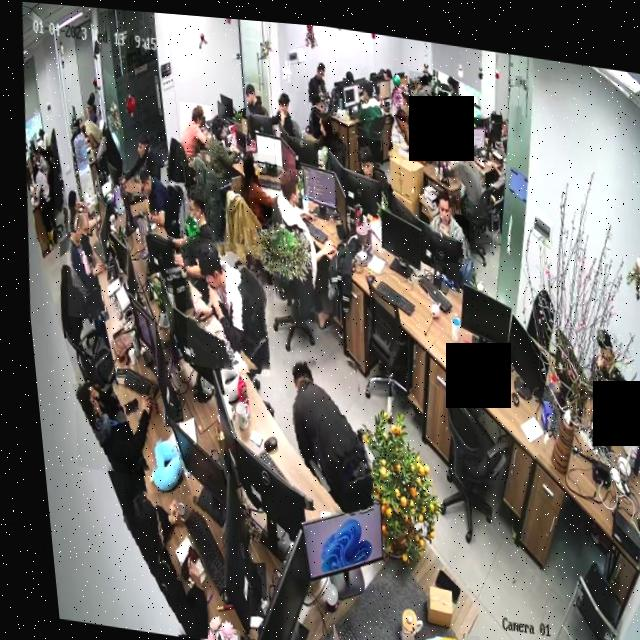person: (269, 347, 374, 513), (102, 484, 204, 637), (256, 160, 344, 328), (170, 232, 272, 373), (61, 375, 160, 477), (565, 312, 632, 426), (155, 178, 222, 282), (53, 204, 109, 321), (438, 124, 488, 210), (420, 179, 470, 258), (231, 145, 279, 227), (129, 161, 179, 237), (199, 109, 245, 184), (23, 148, 57, 244), (114, 125, 159, 188), (173, 98, 213, 167), (382, 95, 424, 155), (349, 72, 387, 135), (404, 63, 439, 127), (383, 618, 469, 640), (59, 183, 94, 234), (350, 138, 387, 184), (267, 85, 303, 131), (308, 104, 343, 148), (302, 53, 332, 101), (437, 67, 460, 106), (240, 77, 263, 114)
